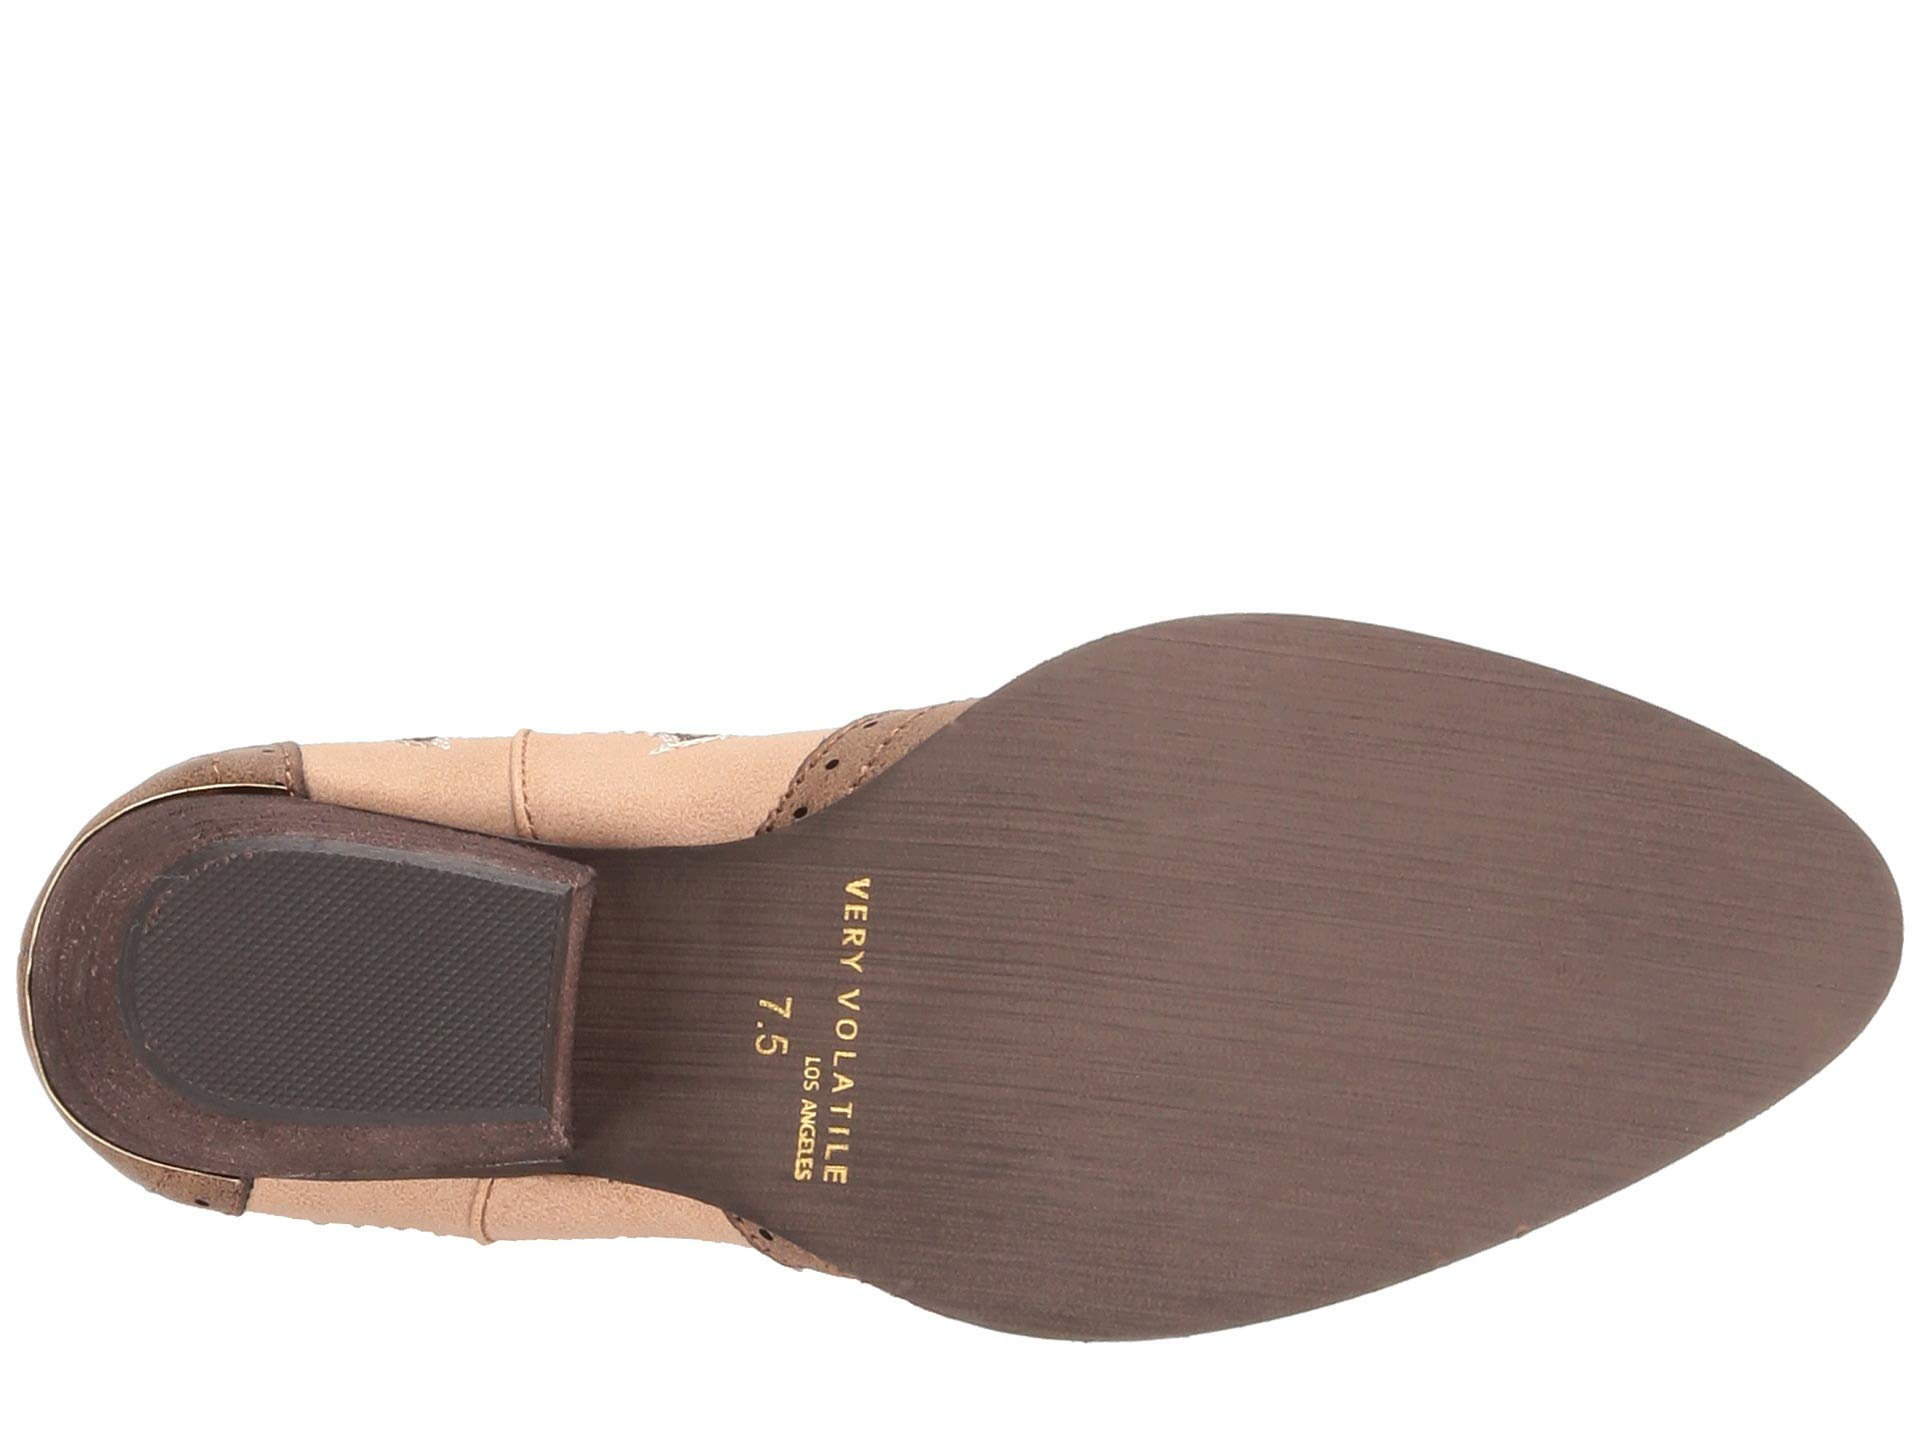line: (1129, 740, 1630, 1134)
